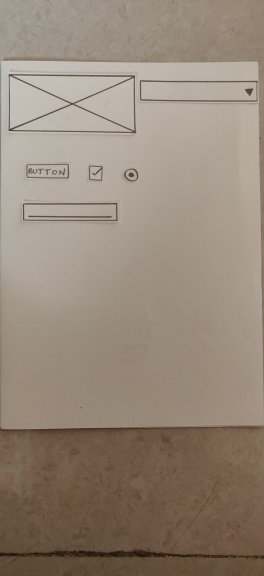button: (23, 160, 72, 181)
checkbox: (85, 162, 106, 185)
dropdown: (138, 77, 258, 107)
img: (3, 70, 138, 138)
radio: (120, 166, 141, 184)
text: (17, 198, 123, 227)
